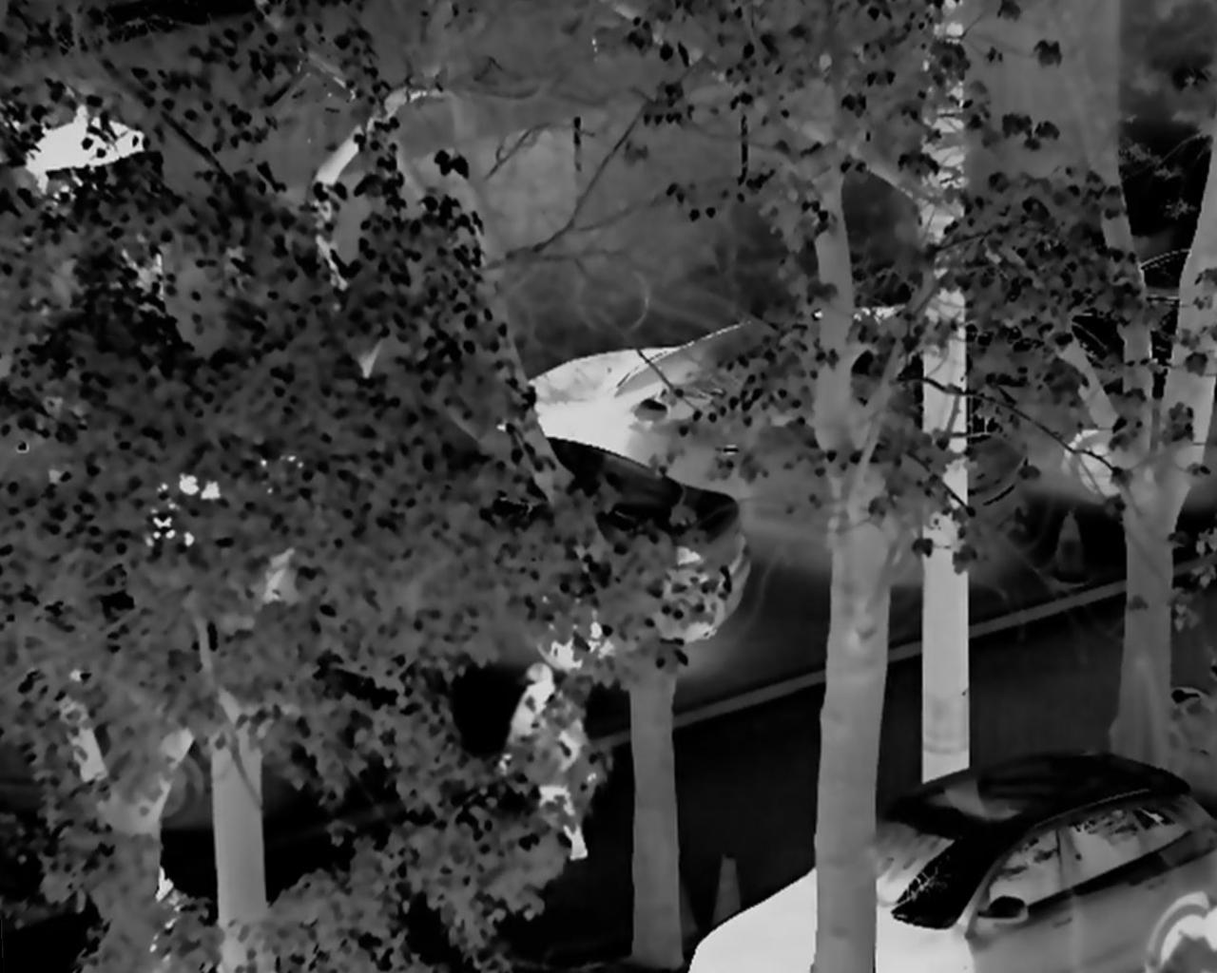person: (498, 660, 602, 857)
